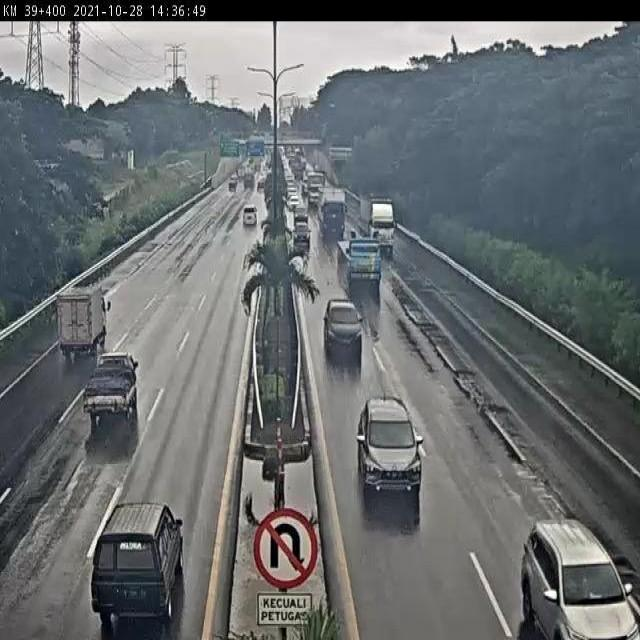big truck: (355, 195, 394, 242), (337, 229, 372, 271)
car: (536, 525, 613, 640), (359, 374, 414, 490), (90, 509, 173, 583), (326, 289, 366, 371), (238, 211, 255, 236), (297, 220, 312, 243)
small truck: (88, 347, 156, 436), (51, 284, 116, 364)
